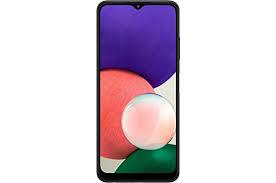Smartphone: (98, 1, 180, 178)
